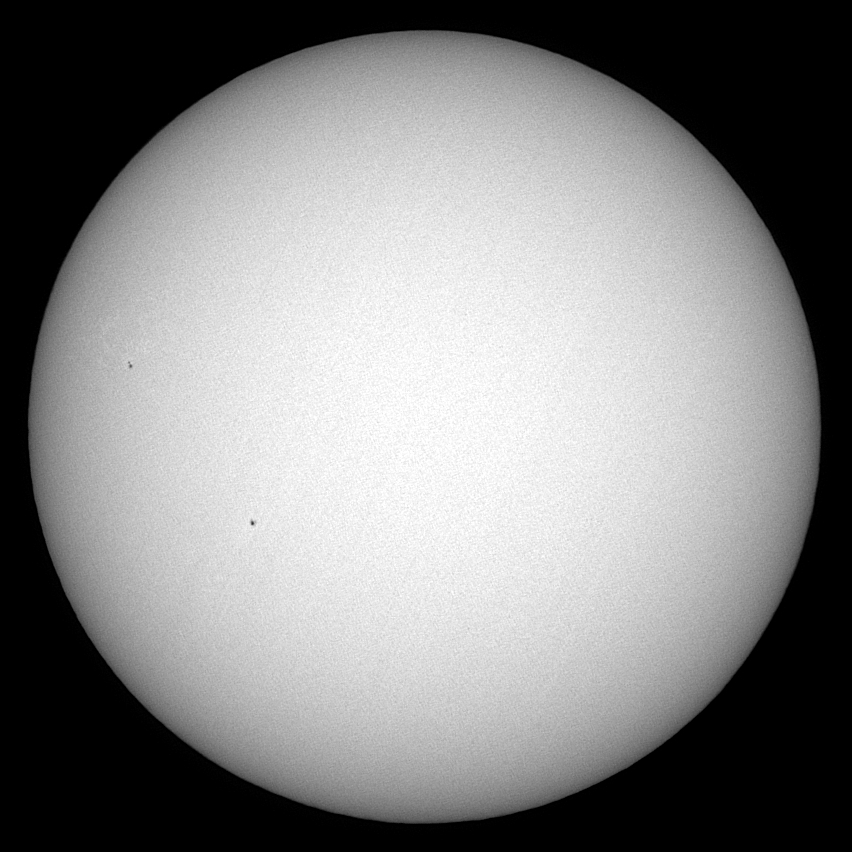sunspot: (120, 357, 136, 372), (246, 515, 258, 528)
